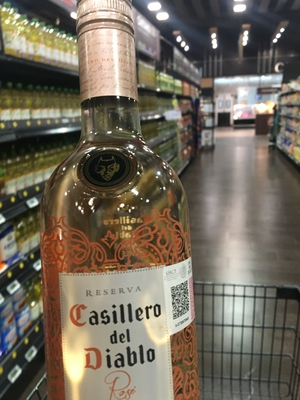casillero del diablo rose: (39, 3, 200, 400)
